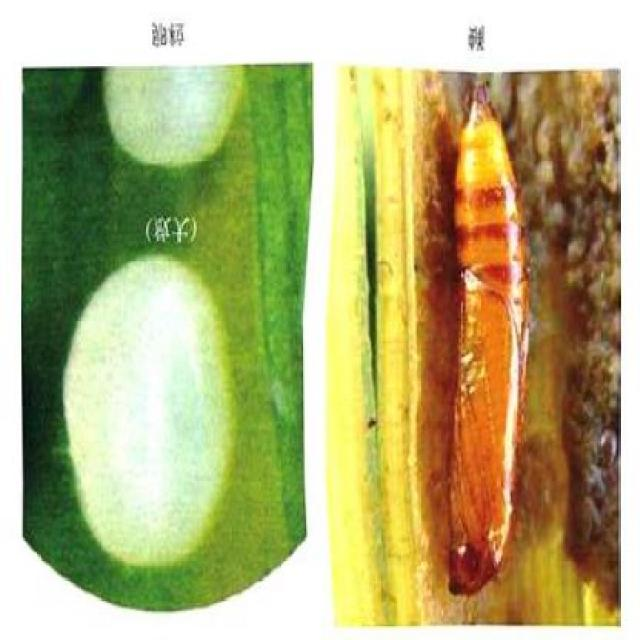whorl-maggot: (446, 83, 537, 609)
